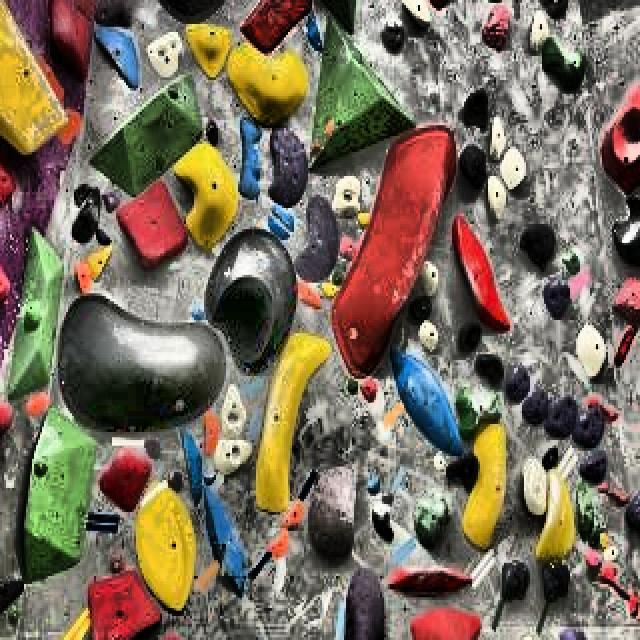Hold: (256, 333, 332, 515), (392, 352, 468, 456), (134, 485, 194, 613), (174, 141, 238, 253), (452, 213, 512, 331), (230, 43, 308, 128), (118, 179, 188, 269), (462, 421, 506, 552), (88, 571, 160, 640), (308, 467, 356, 560), (206, 491, 248, 597), (534, 469, 576, 565), (602, 87, 640, 192), (242, 0, 312, 56), (294, 195, 338, 283), (268, 125, 310, 208), (48, 0, 90, 83), (98, 451, 150, 512), (343, 568, 386, 640), (94, 24, 140, 91), (388, 563, 472, 597), (186, 24, 232, 80), (540, 35, 586, 91), (410, 605, 482, 640), (456, 387, 502, 440), (414, 491, 450, 549), (180, 429, 206, 507), (612, 195, 640, 267), (146, 32, 184, 80), (576, 325, 608, 381), (520, 224, 556, 272), (70, 189, 100, 243), (522, 459, 548, 520), (574, 405, 606, 453), (214, 437, 252, 477), (482, 3, 512, 51), (614, 277, 640, 331), (220, 384, 246, 437), (546, 397, 578, 440), (446, 453, 480, 491), (332, 176, 362, 219), (458, 144, 486, 189), (370, 499, 398, 544), (500, 147, 528, 192), (598, 480, 632, 517), (544, 277, 572, 320), (500, 560, 530, 600), (542, 563, 570, 605), (486, 168, 508, 221), (576, 483, 596, 539), (522, 387, 550, 427), (462, 91, 488, 131), (202, 408, 222, 459), (504, 365, 530, 403), (586, 395, 620, 424), (84, 243, 110, 280), (614, 325, 638, 365), (488, 115, 508, 163), (580, 451, 608, 485), (94, 0, 132, 24), (403, 0, 434, 29), (476, 355, 504, 387), (0, 579, 24, 615), (530, 11, 550, 53), (418, 317, 440, 352), (418, 261, 440, 296), (306, 11, 324, 53), (268, 523, 288, 560), (382, 24, 406, 53), (296, 283, 322, 309), (0, 159, 14, 207), (22, 301, 44, 331), (284, 499, 304, 531), (540, 0, 570, 21), (626, 489, 640, 533), (102, 189, 124, 216), (584, 544, 604, 573), (408, 299, 432, 323), (540, 448, 560, 475), (166, 469, 186, 496), (272, 205, 294, 229), (268, 215, 289, 240), (0, 261, 10, 312), (74, 0, 94, 24), (360, 379, 380, 403), (589, 515, 605, 544), (110, 552, 128, 576), (340, 237, 358, 261), (562, 251, 582, 272), (330, 264, 344, 293), (4, 605, 22, 627), (310, 136, 322, 168), (600, 563, 618, 584), (94, 224, 112, 245), (146, 437, 162, 459), (318, 283, 340, 299), (598, 531, 612, 555), (380, 491, 396, 512), (366, 475, 382, 496), (356, 211, 372, 232), (628, 592, 640, 619), (562, 627, 586, 640), (432, 453, 450, 469), (204, 469, 218, 488), (192, 304, 206, 323), (602, 544, 618, 560), (348, 379, 364, 395), (32, 459, 48, 475), (324, 120, 336, 141), (166, 85, 178, 101), (524, 635, 540, 640)
Macro: (332, 125, 456, 373), (58, 293, 226, 435), (204, 229, 296, 376), (0, 0, 66, 155)
Unknown: (238, 117, 262, 203), (38, 59, 64, 101), (56, 112, 82, 147), (458, 320, 482, 355), (72, 184, 98, 208), (76, 259, 94, 293)
Volume: (310, 16, 419, 164), (87, 73, 200, 199), (18, 407, 94, 580), (10, 233, 66, 392)
start_tag: (58, 608, 90, 640), (392, 536, 418, 568), (194, 560, 220, 589), (298, 469, 318, 501), (382, 403, 404, 432), (250, 552, 270, 579), (86, 515, 118, 531)
